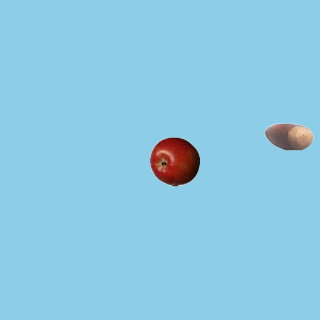Apple Braeburn: (149, 136, 199, 186)
Hazelnut: (263, 111, 313, 161)
